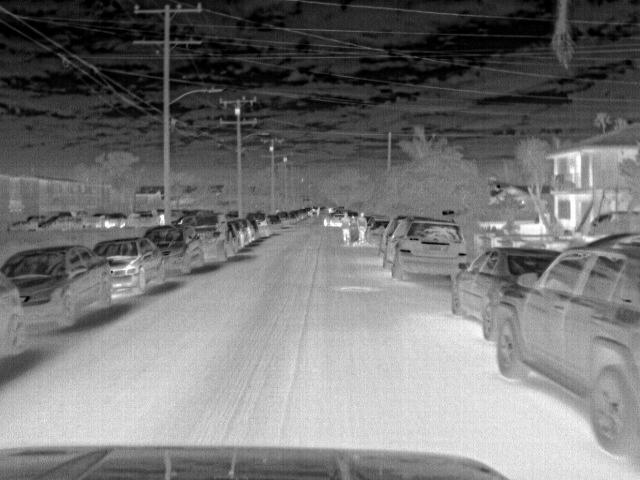car: (491, 238, 639, 460), (449, 249, 565, 338), (1, 245, 112, 329), (382, 216, 468, 278), (93, 235, 167, 297), (176, 210, 235, 265), (144, 223, 203, 275), (0, 270, 29, 355), (35, 214, 82, 232), (5, 214, 45, 232), (246, 210, 273, 236), (321, 210, 350, 227), (274, 211, 290, 225)
person: (340, 211, 355, 246), (348, 214, 363, 246), (356, 210, 370, 243)
